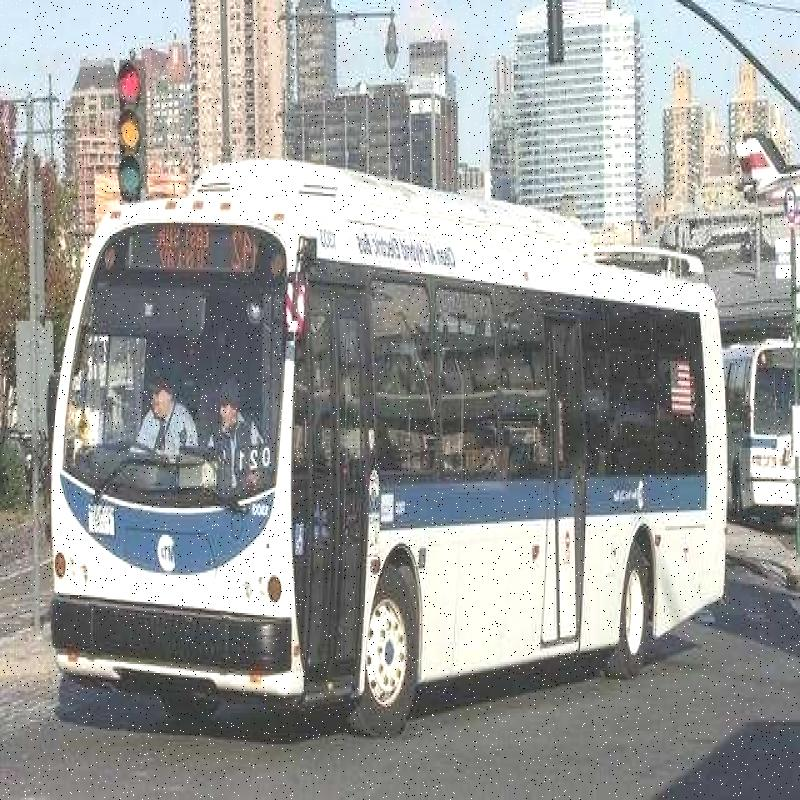bus: (53, 160, 721, 703)
